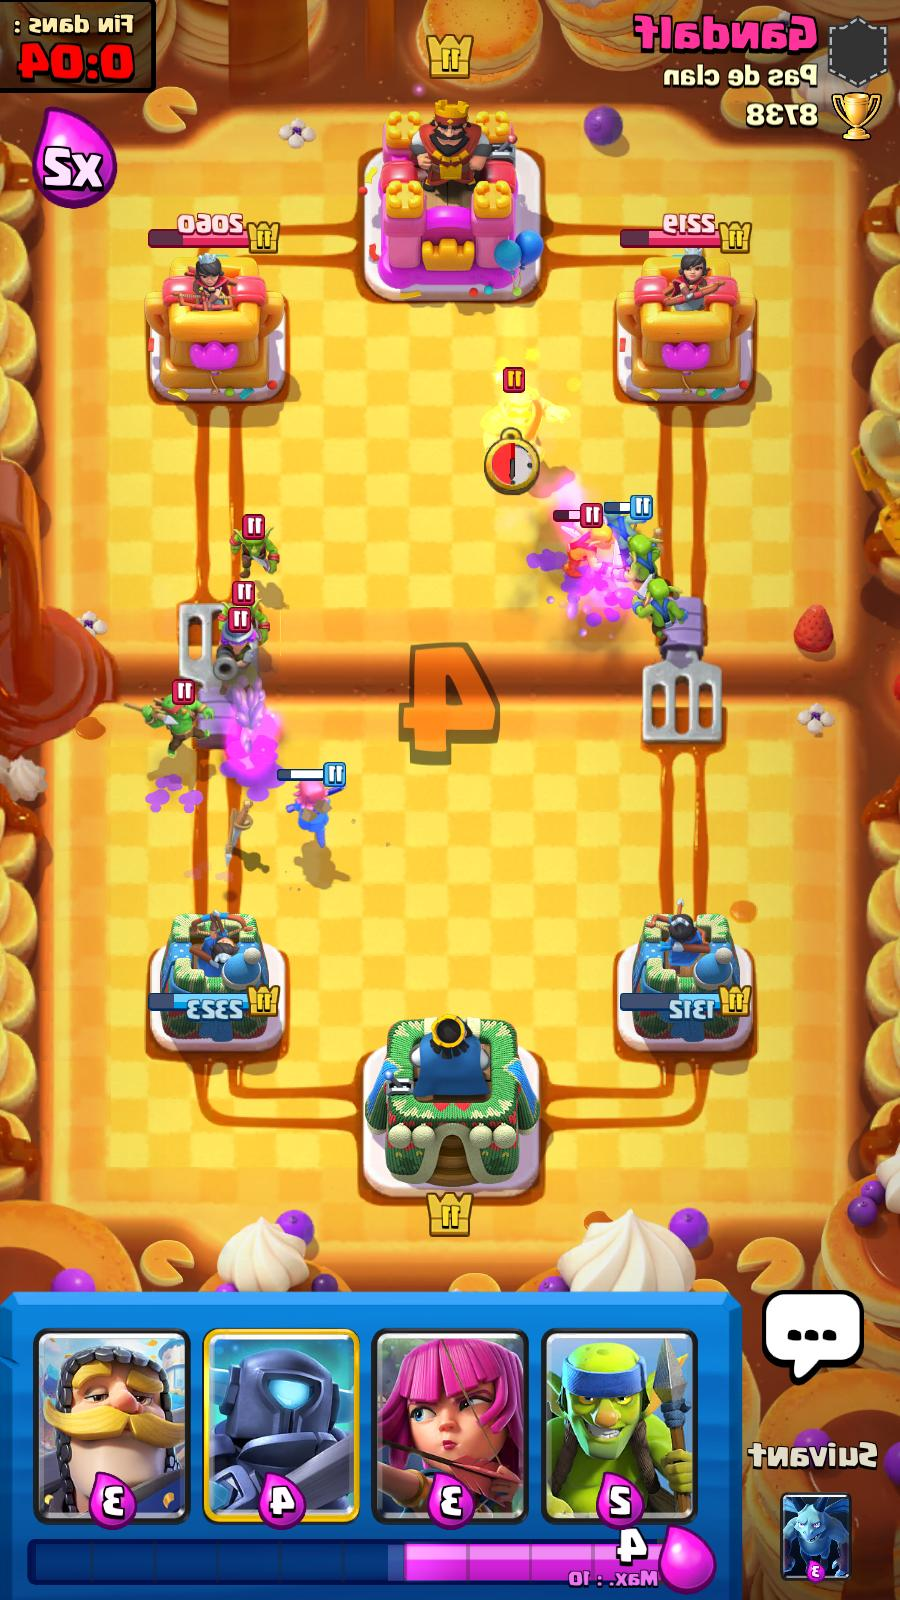archere: (277, 762, 349, 852)
gobelin: (553, 501, 619, 585), (207, 581, 273, 652), (607, 527, 671, 598), (599, 493, 654, 570), (627, 577, 688, 645), (222, 513, 286, 577)
gobelin_lances: (120, 680, 212, 758)
